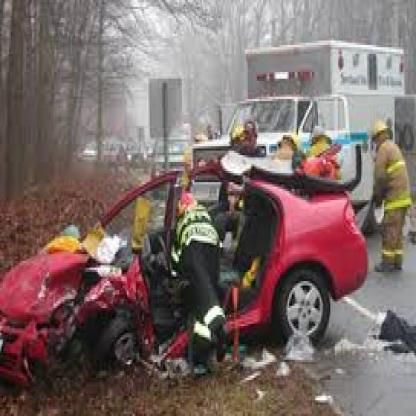accident: (1, 135, 384, 407)
